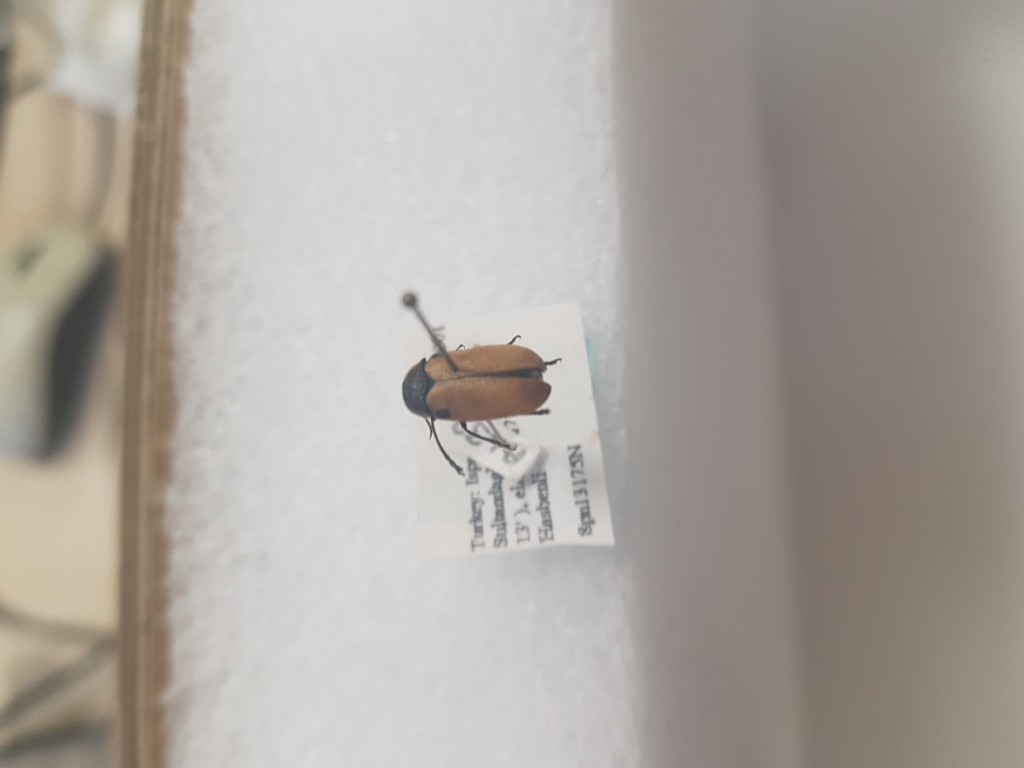Labidostomis_asiatica: (397, 329, 570, 478)
